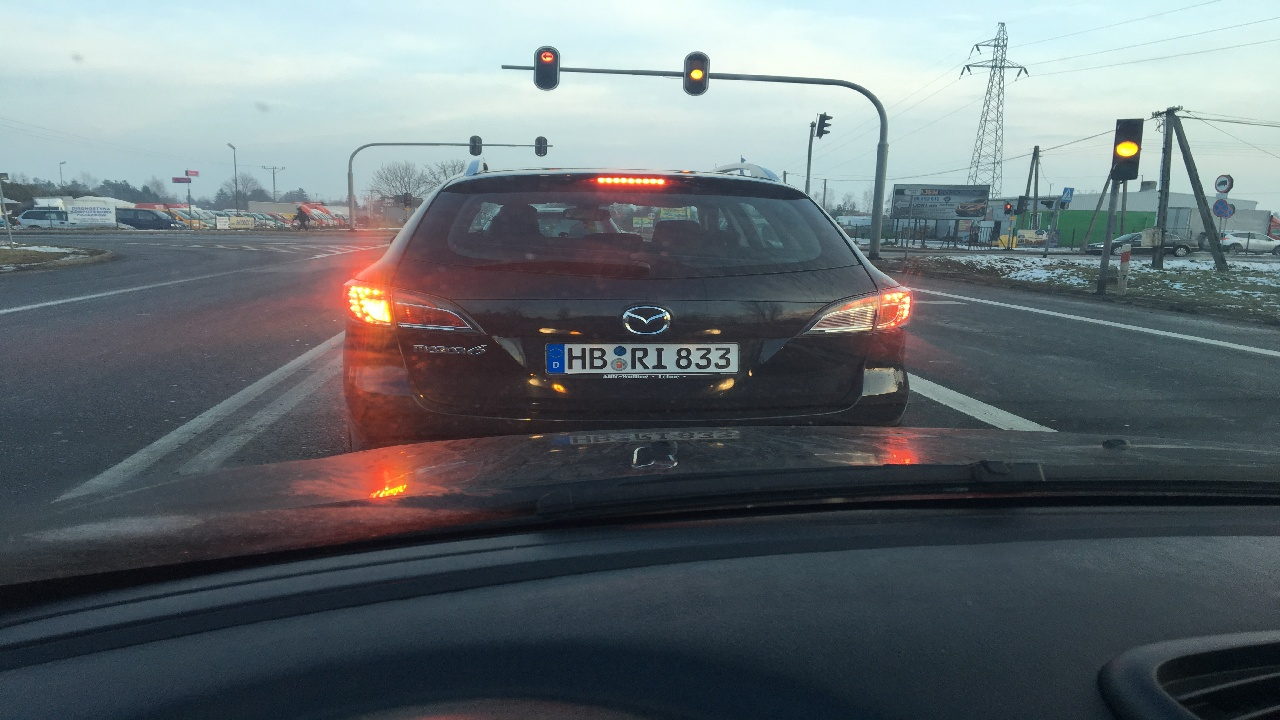Red: (541, 49, 553, 86)
